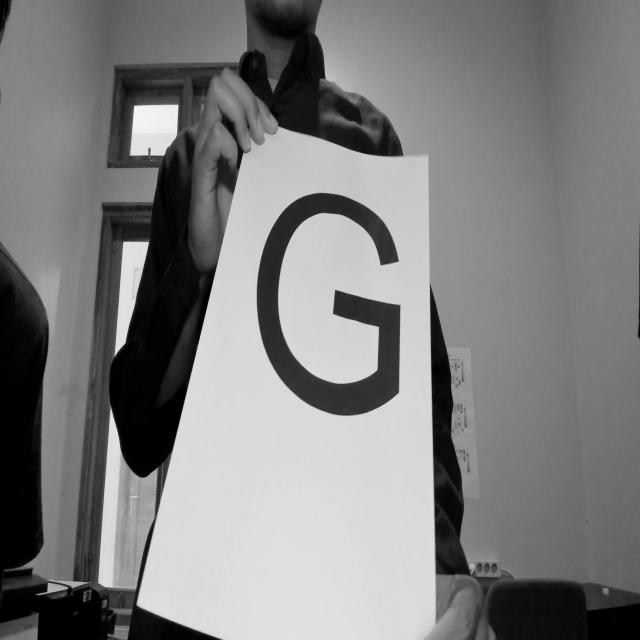g: (250, 165, 412, 479)
